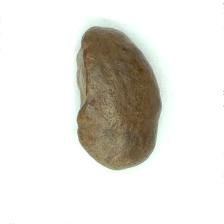NG: (71, 38, 96, 124)
